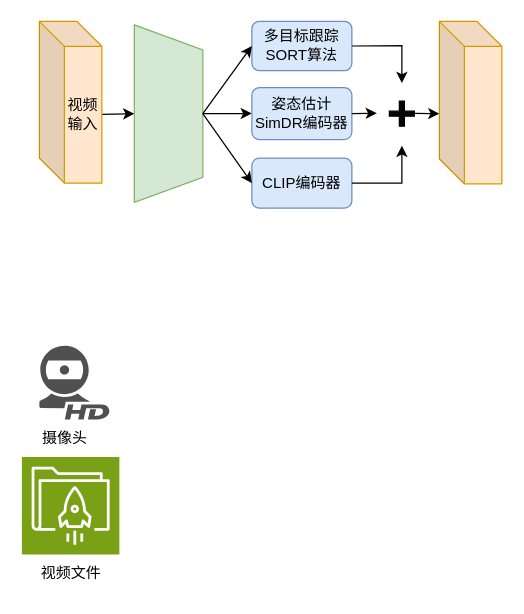
Some shapes in this 524 by 614 pixel diagram are drawn without their labels. Each missing label, with the box of its shape:
时空联合特征: (438, 20, 502, 184)
骨干网络 CSPNeXt: (133, 24, 203, 202)
